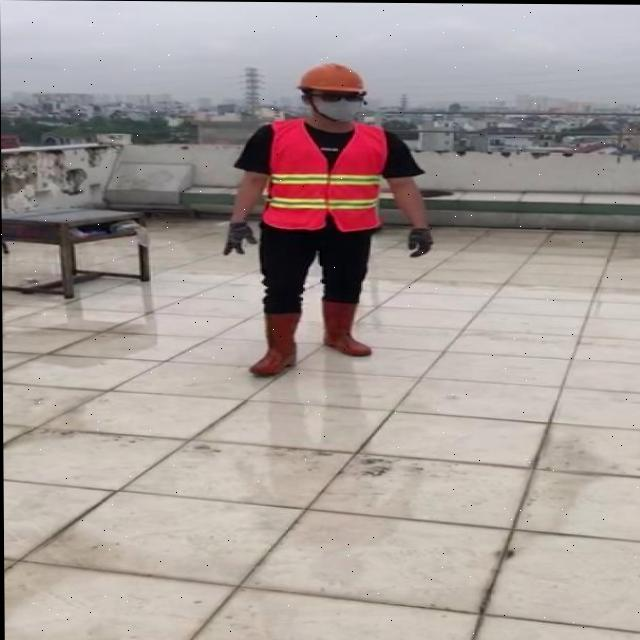Gloves: (223, 221, 257, 255), (408, 226, 434, 257)
Helmet: (296, 61, 368, 95)
Safety-Boot: (249, 310, 301, 375), (322, 296, 372, 356)
Safety-Vest: (260, 117, 390, 232)
